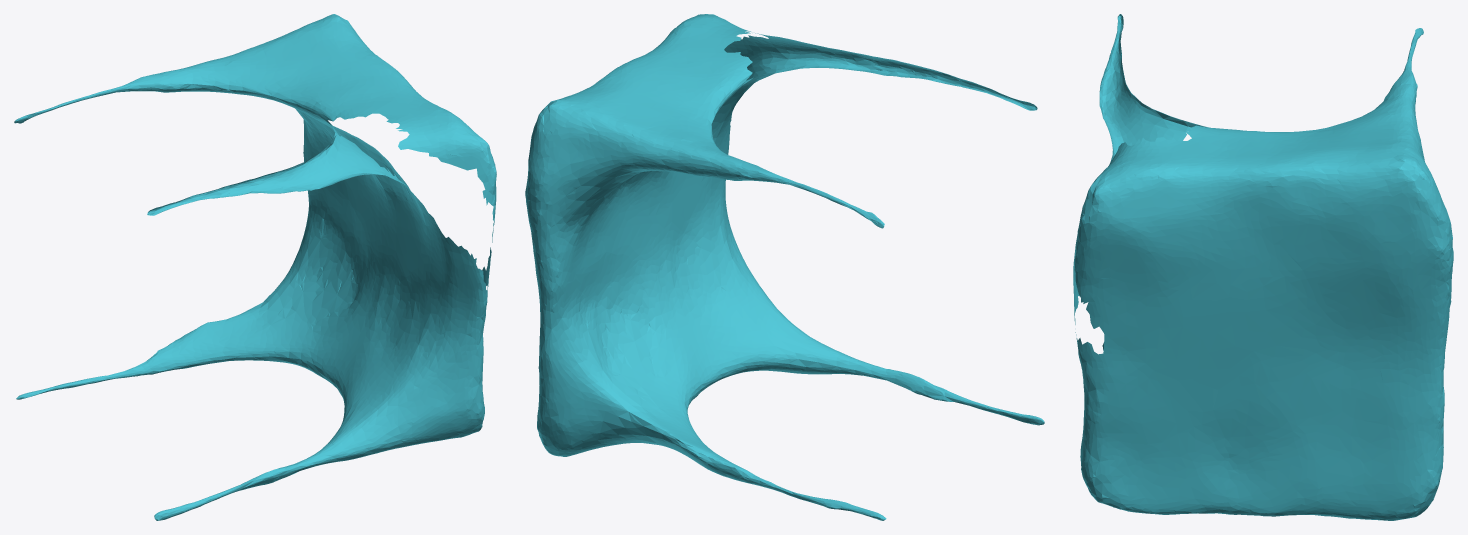
The picture shows the model from 3 angles, left to right: view 1: azimuth 30°, elevation 25°; view 2: azimuth 150°, elevation 25°; view 3: azimuth 270°, elevation 25°; orthographic projection. The views are drawn at different scales.
Visible parts, largest first — view 1: Renderer Node; view 2: Renderer Node; view 3: Renderer Node.
Part boxes in pixels (box(x1,y1,x2,y2)): Renderer Node: box(14, 14, 496, 520); Renderer Node: box(525, 14, 1044, 520); Renderer Node: box(1073, 14, 1453, 520).
Size of the model in its own units: 0.5241 by 0.4916 by 0.4684.
1 material, 1 textured.
